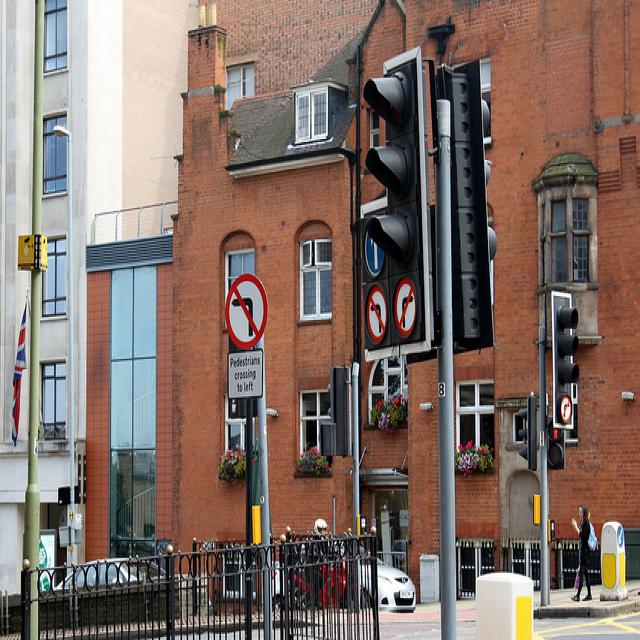motor: (284, 552, 354, 614)
